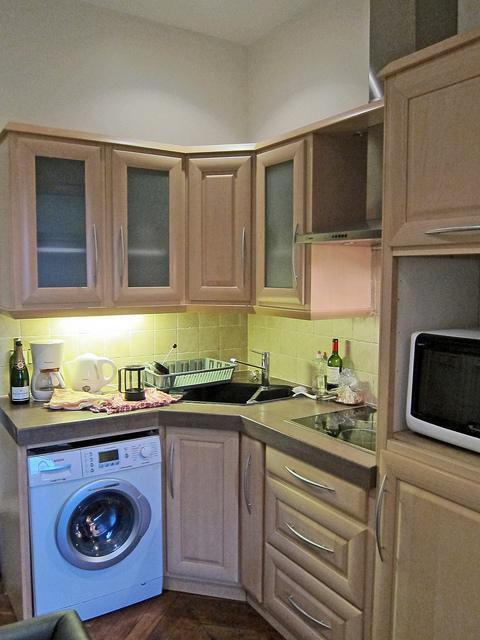Lavaplatos: (167, 352, 305, 413)
